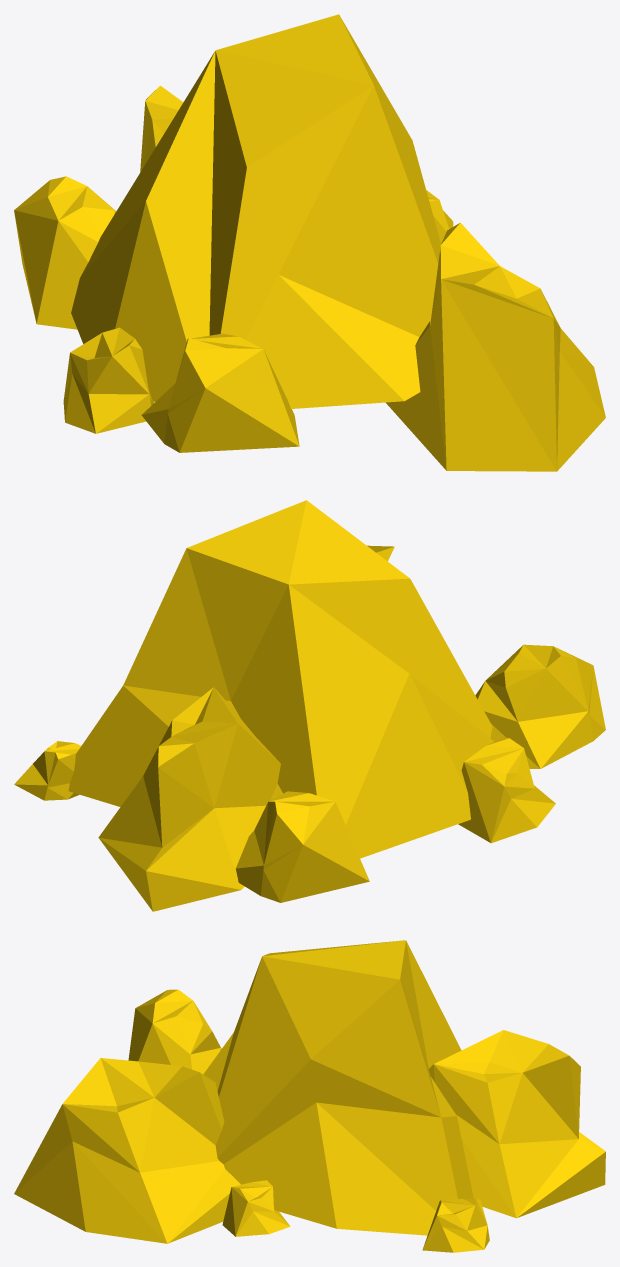
Rendered from gold.fbx.
3 views of the same model, one above another, from view 1: azimuth 30°, elevation 25°; view 2: azimuth 150°, elevation 25°; view 3: azimuth 270°, elevation 25° (orthographic). The views are drawn at different scales.
Visible parts, largest first — view 1: group337471551; view 2: group337471551; view 3: group337471551.
Part boxes in pixels (x1,y1,x2,y2): group337471551: (14,14,605,471); group337471551: (14,500,605,911); group337471551: (14,940,605,1252).
Bounding box in the file's own units: 45.72 × 27.32 × 60.19.
